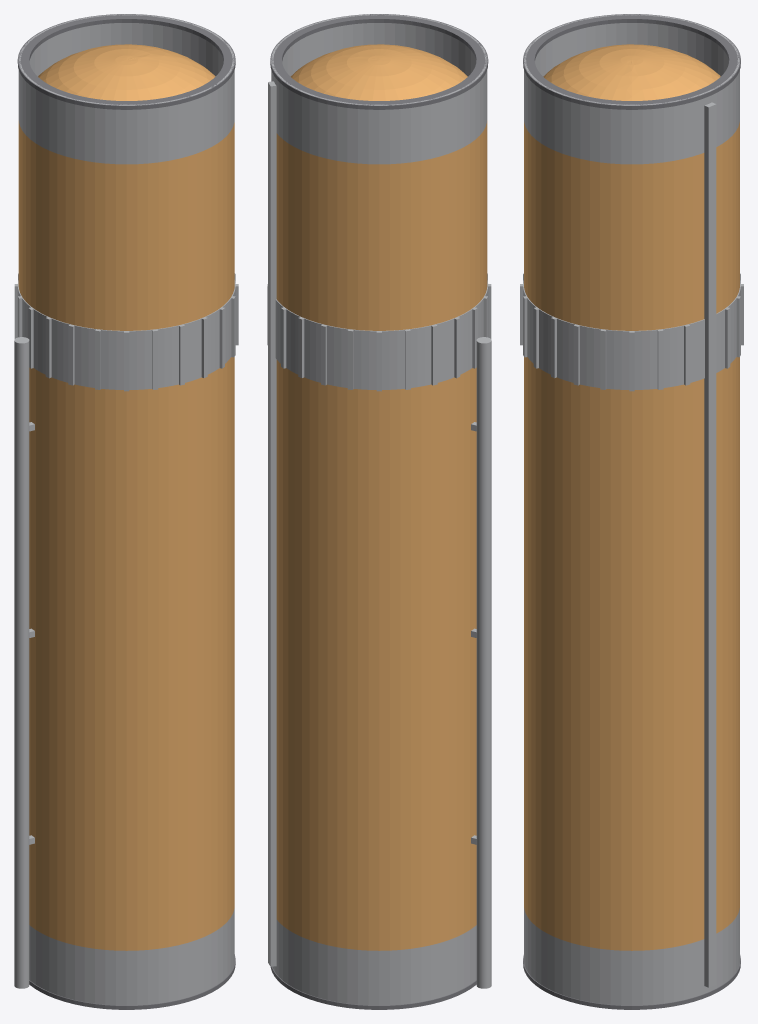
Rendered from tank02_hydrolox_l.glb.
The picture shows the model from 3 angles, left to right: view 1: azimuth 30°, elevation 25°; view 2: azimuth 150°, elevation 25°; view 3: azimuth 270°, elevation 25°; orthographic projection.
Parts seen in each view (by area): view 1: tank, skirts, intertank, lox_feedline, stack_flanges; view 2: tank, skirts, intertank, lox_feedline, raceway, stack_flanges; view 3: tank, skirts, intertank, raceway, stack_flanges.
Boxes of the visible parts, <box> form: tank: <box>18,44,234,950</box>; skirts: <box>18,14,234,1005</box>; intertank: <box>14,273,238,391</box>; lox_feedline: <box>14,337,34,988</box>; stack_flanges: <box>17,14,235,1009</box>; tank: <box>276,44,487,950</box>; skirts: <box>271,14,487,1005</box>; intertank: <box>267,273,491,391</box>; lox_feedline: <box>471,337,491,988</box>; raceway: <box>268,81,276,966</box>; stack_flanges: <box>270,14,488,1009</box>; tank: <box>524,44,739,950</box>; skirts: <box>524,14,739,1005</box>; intertank: <box>520,273,743,391</box>; raceway: <box>704,102,716,987</box>; stack_flanges: <box>523,14,740,1009</box>.
Size of the model in its own units: 4.17 by 17.3 by 3.88.
